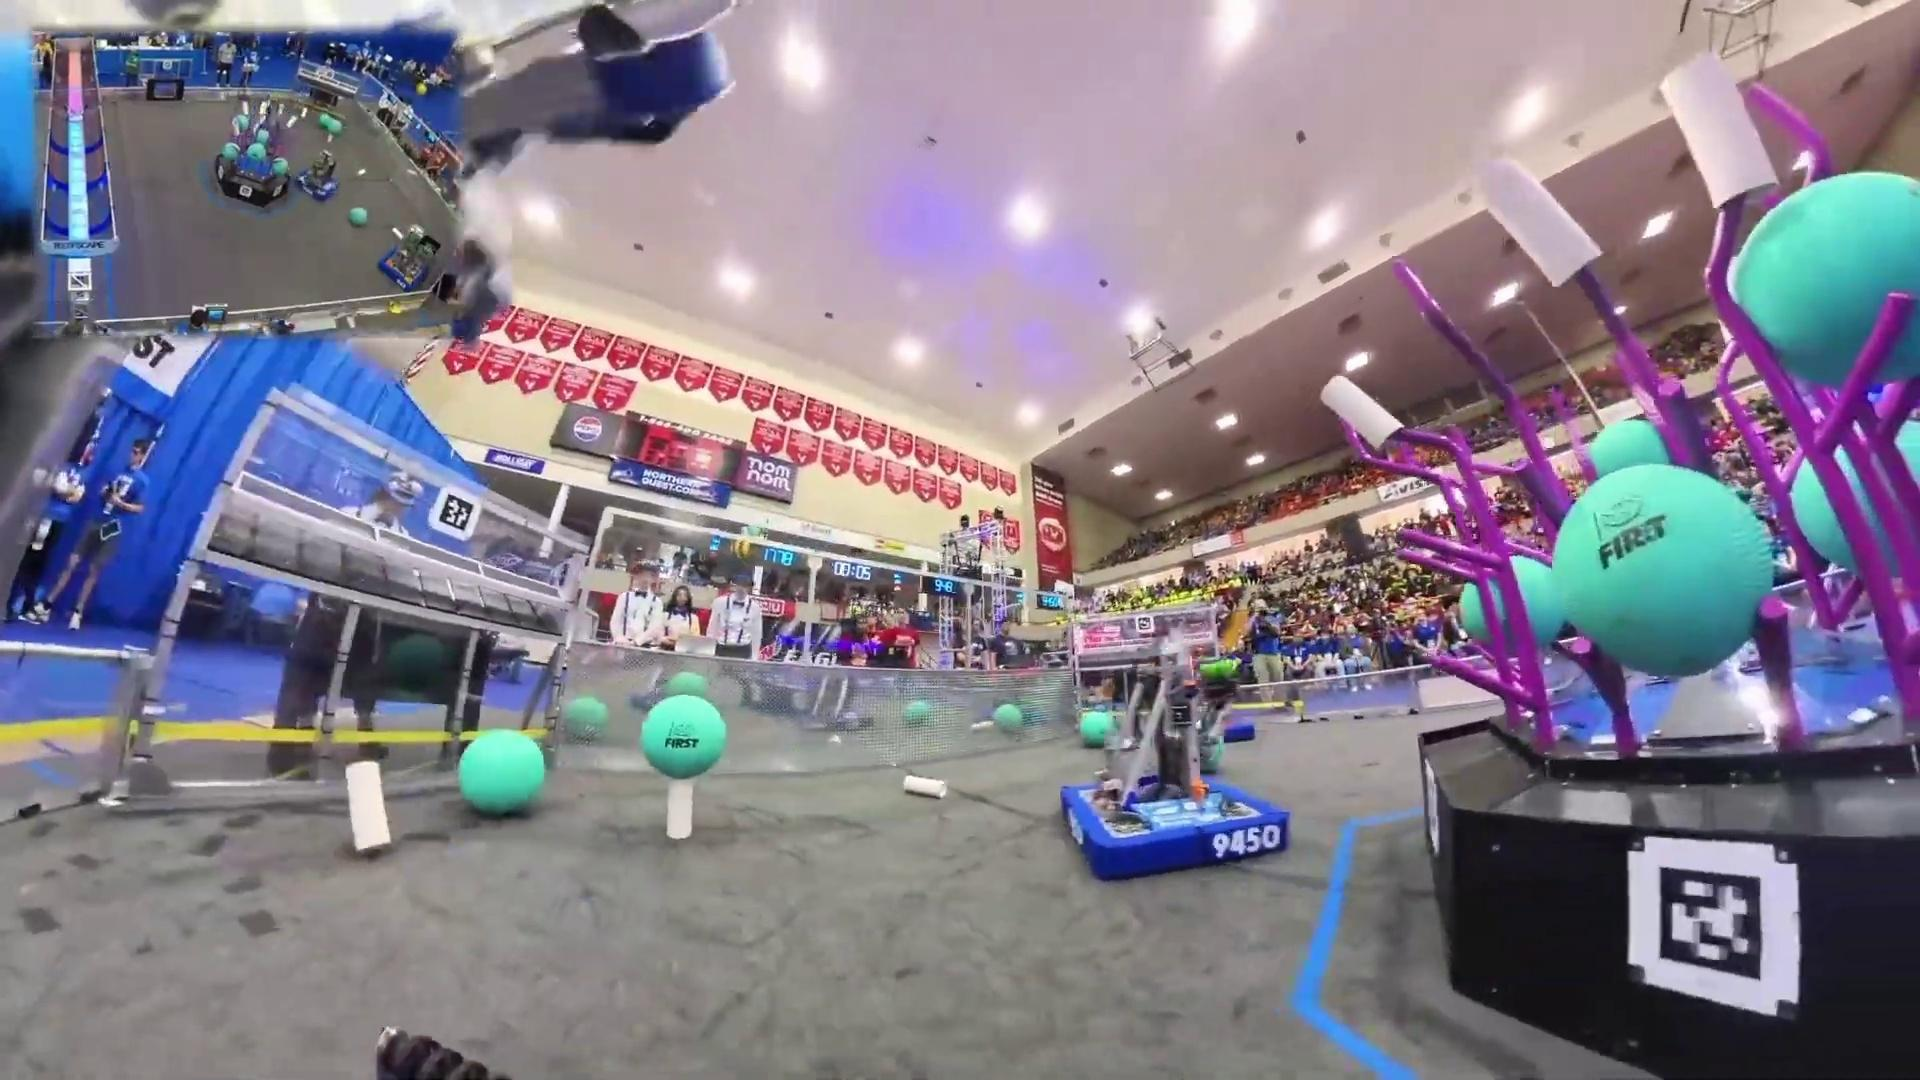robot: (1062, 655, 1288, 882), (378, 220, 442, 287), (295, 153, 343, 202), (1205, 716, 1257, 742)
